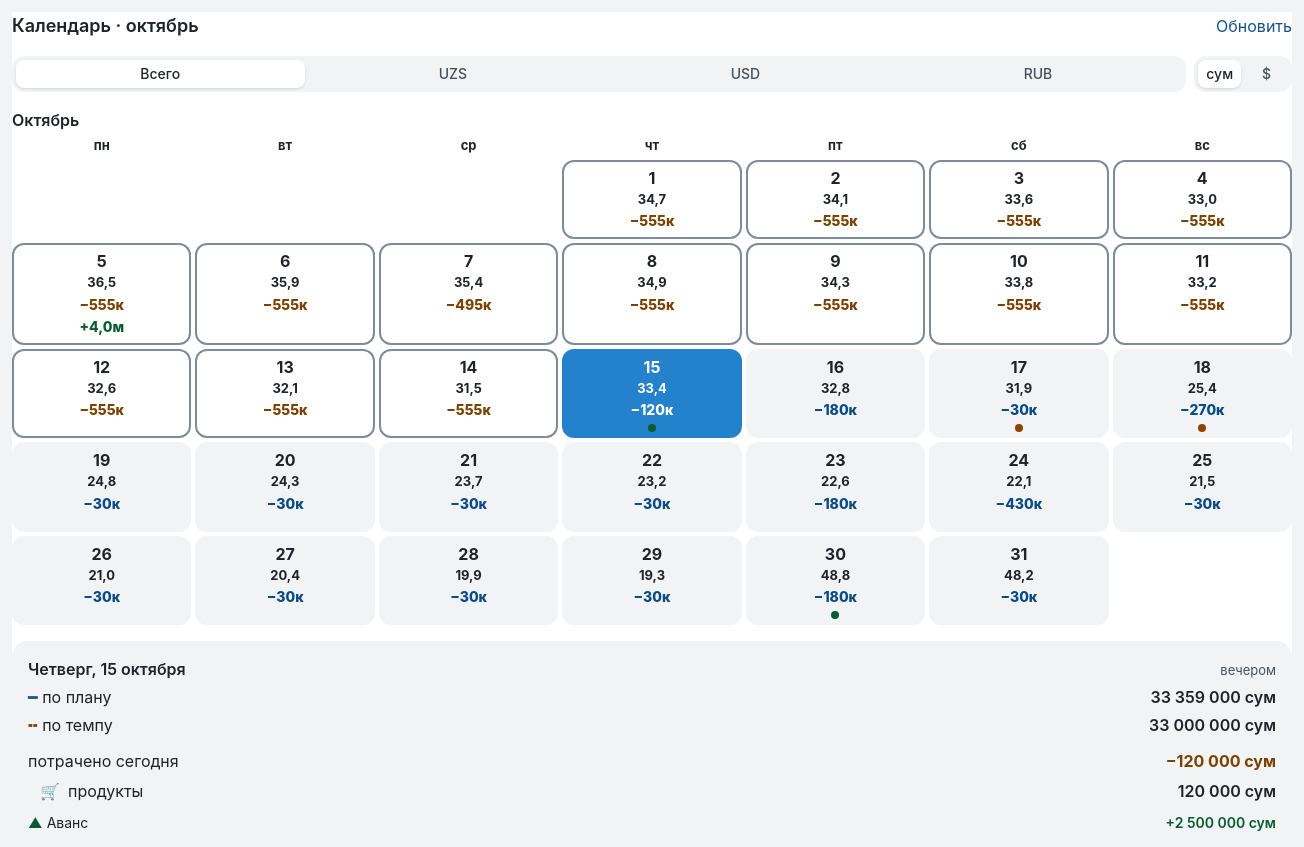
Scenario: ForecastScreen › shows the chosen day with its events, without «обычные траты»
The image size is (1304, 847).
Expected: the heading "Октябрь" is shown, [12, 110, 79, 130]
Click the button "17 31,9 −30к". click: (1019, 393)
box: [929, 348, 1108, 438]
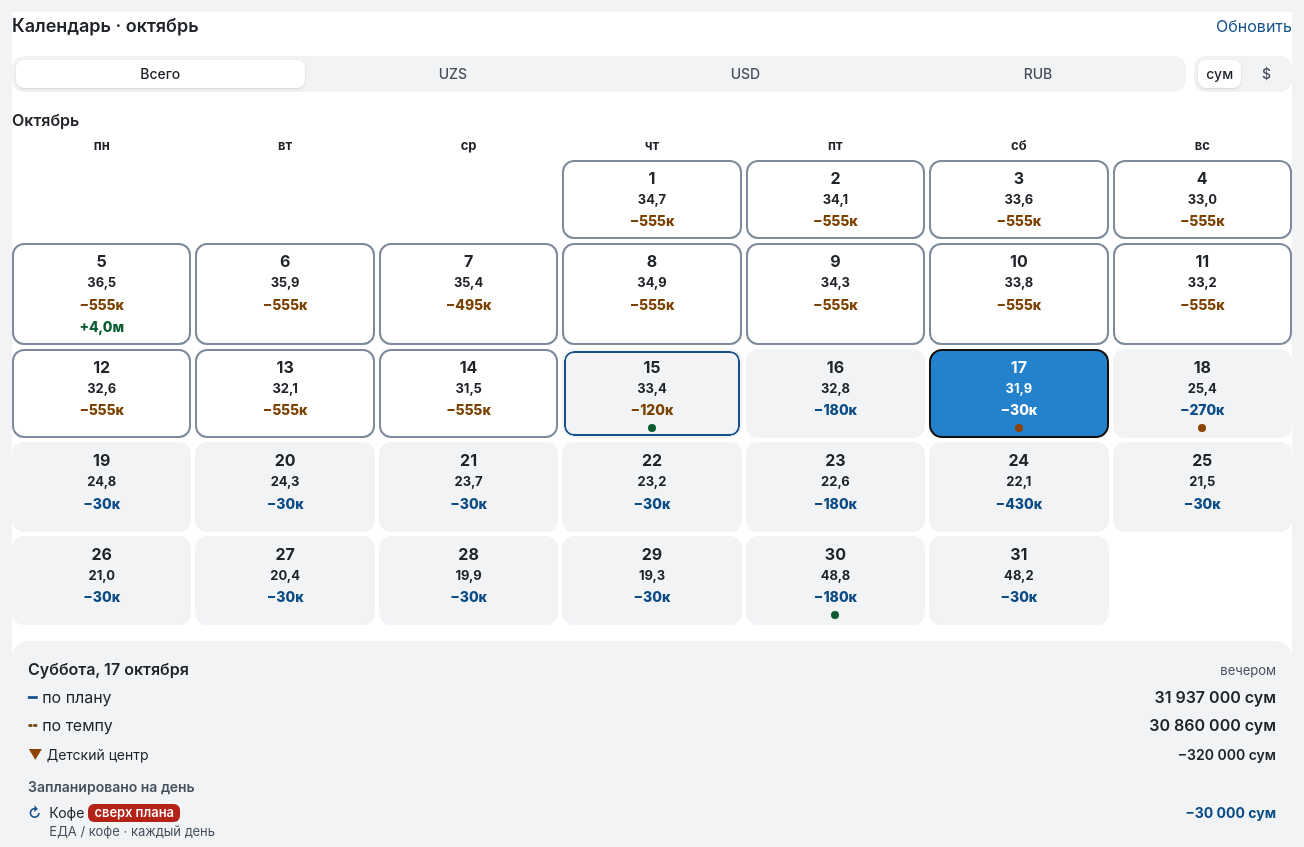
Now the heading "Суббота, 17 октября" is shown, box [28, 657, 189, 681]
Now the text "Детский центр" is shown, box [47, 745, 149, 765]
Now the text "−320 000 сум" is shown, box [1178, 745, 1276, 765]
